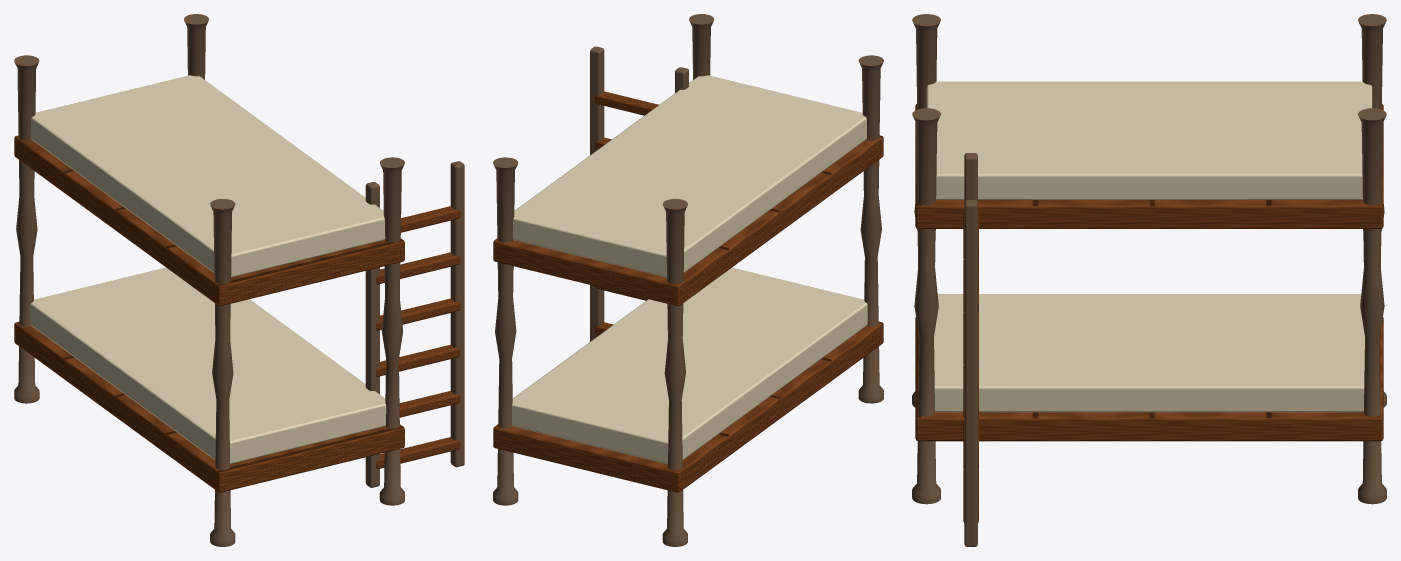
Rendered from adventurers-tavern-and-guild-hall-bunk-65129119__24703.glb.
3 renders of one model, left to right at view 1: azimuth 30°, elevation 25°; view 2: azimuth 150°, elevation 25°; view 3: azimuth 270°, elevation 25°, orthographic. The views are drawn at different scales.
Parts seen in each view (by area): view 1: bunk; view 2: bunk; view 3: bunk.
Part boxes in pixels (<box>): bunk: <box>14,14,464,546</box>; bunk: <box>493,14,883,546</box>; bunk: <box>912,14,1386,546</box>.
Bounding box in the file's own units: 1.6 × 1.9 × 2.13.
3 materials, 1 textured.
